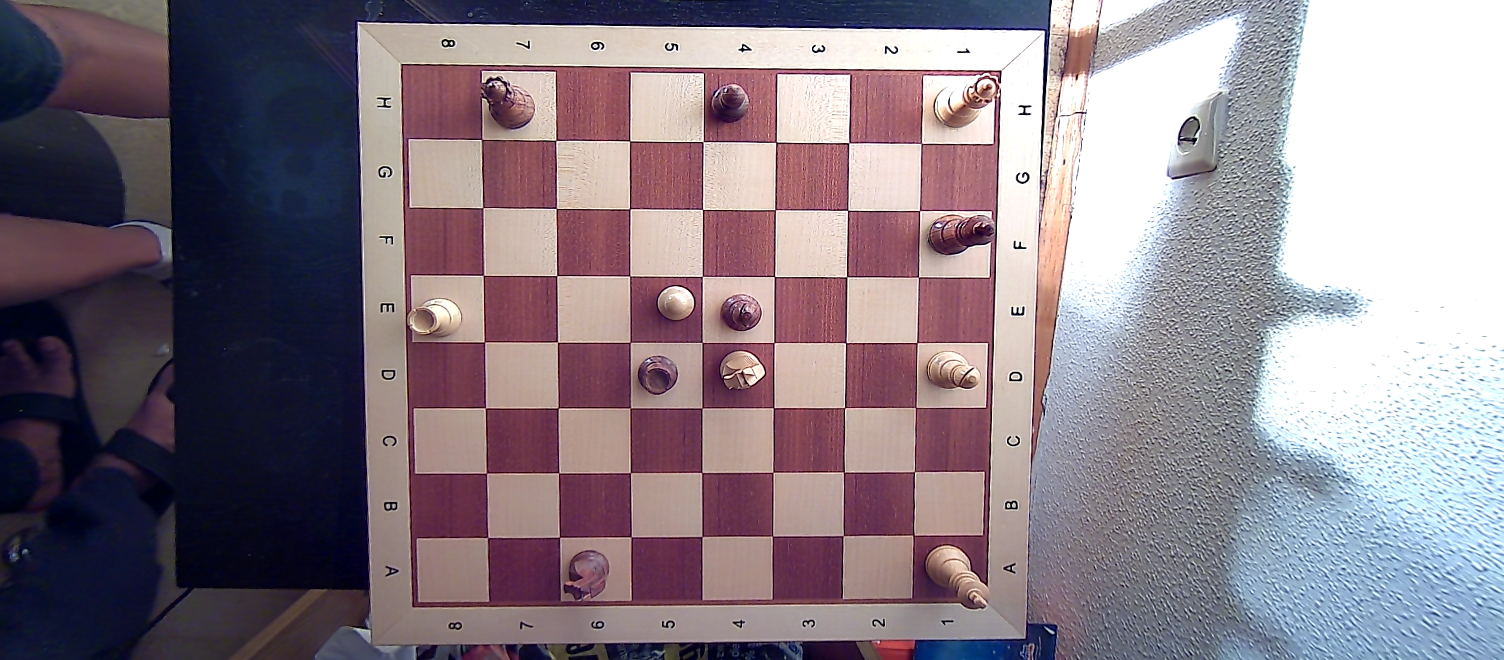black-bishop: (717, 292, 764, 335)
black-king: (923, 208, 1000, 261)
black-knight: (560, 546, 617, 606)
black-pawn: (705, 80, 755, 127)
black-queen: (477, 75, 539, 127)
black-rook: (634, 352, 683, 399)
white-bishop: (923, 349, 983, 395)
white-king: (922, 541, 994, 612)
white-knight: (715, 349, 766, 393)
white-pawn: (653, 282, 696, 327)
white-queen: (933, 72, 999, 131)
white-rook: (405, 295, 468, 343)
